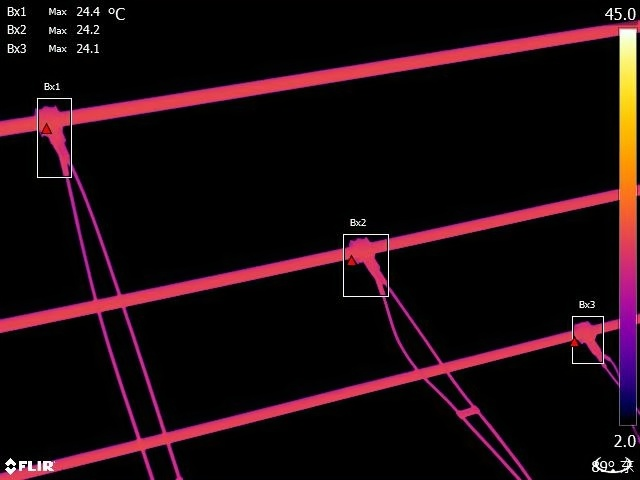clamp: (347, 236, 389, 289), (39, 103, 68, 163), (575, 322, 603, 358)
